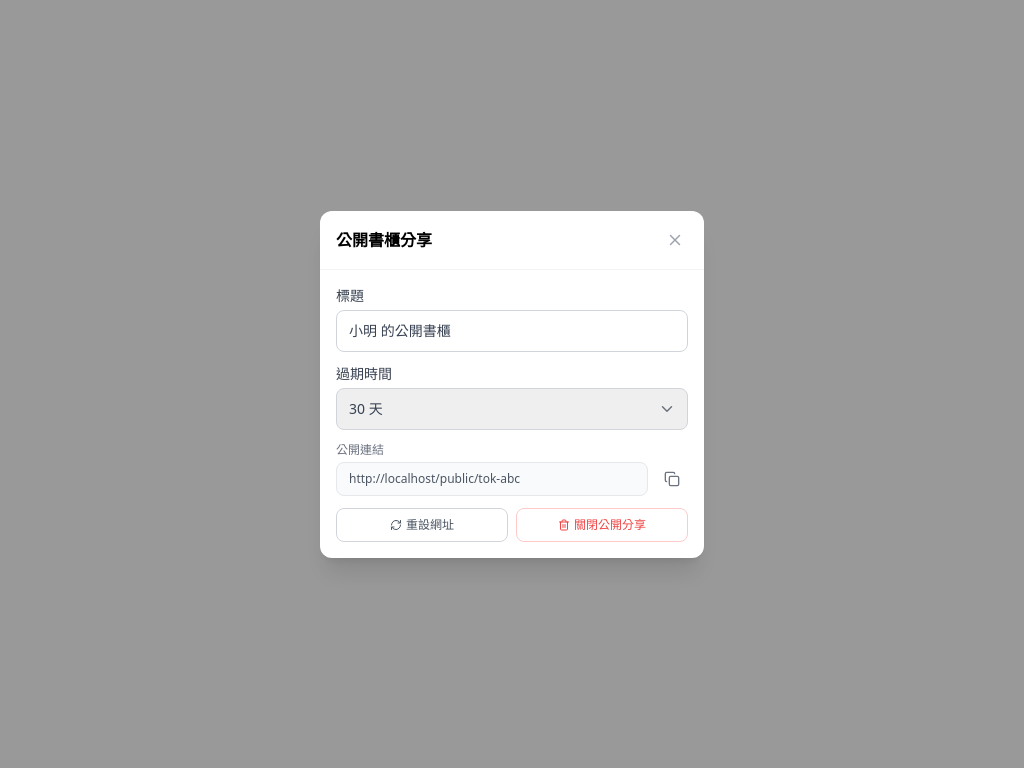
Test: PublicShareDialog · refused writes never advance the UI › revoking the public link › reports a FORBIDDEN refusal in 繁體中文 and keeps the link live
The width and height of the screenshot is (1024, 768).
Click the button "關閉公開分享" at (602, 524), box [516,508,688,542]
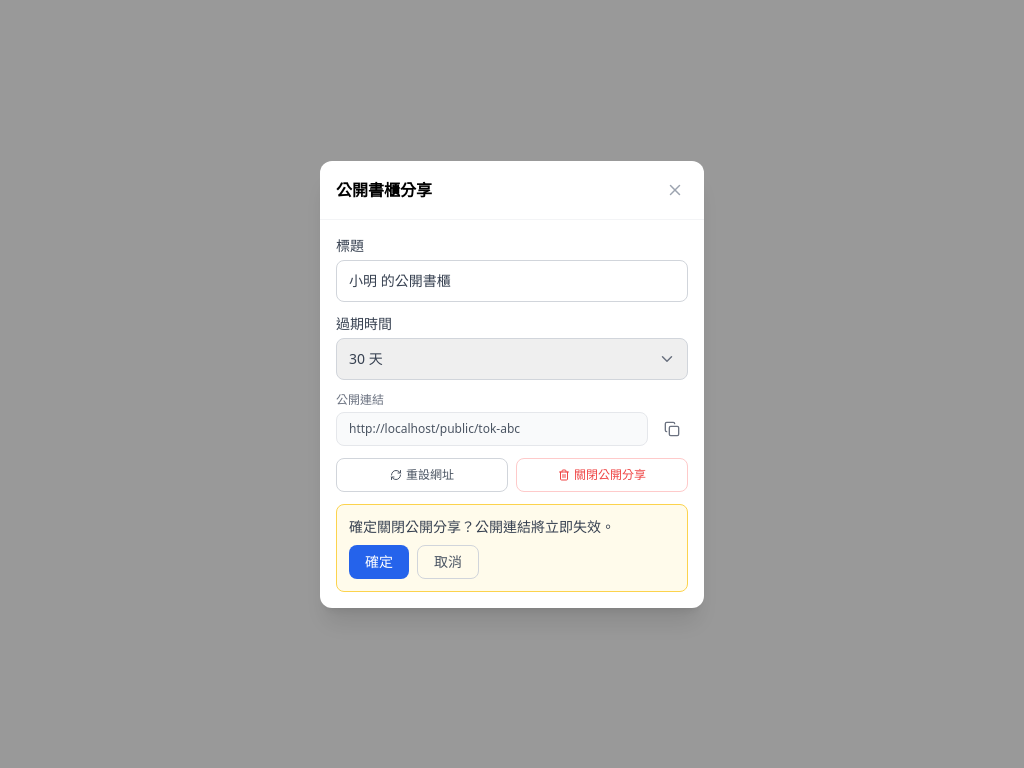
Click the button "確定" at (379, 562), box [349,544,409,578]
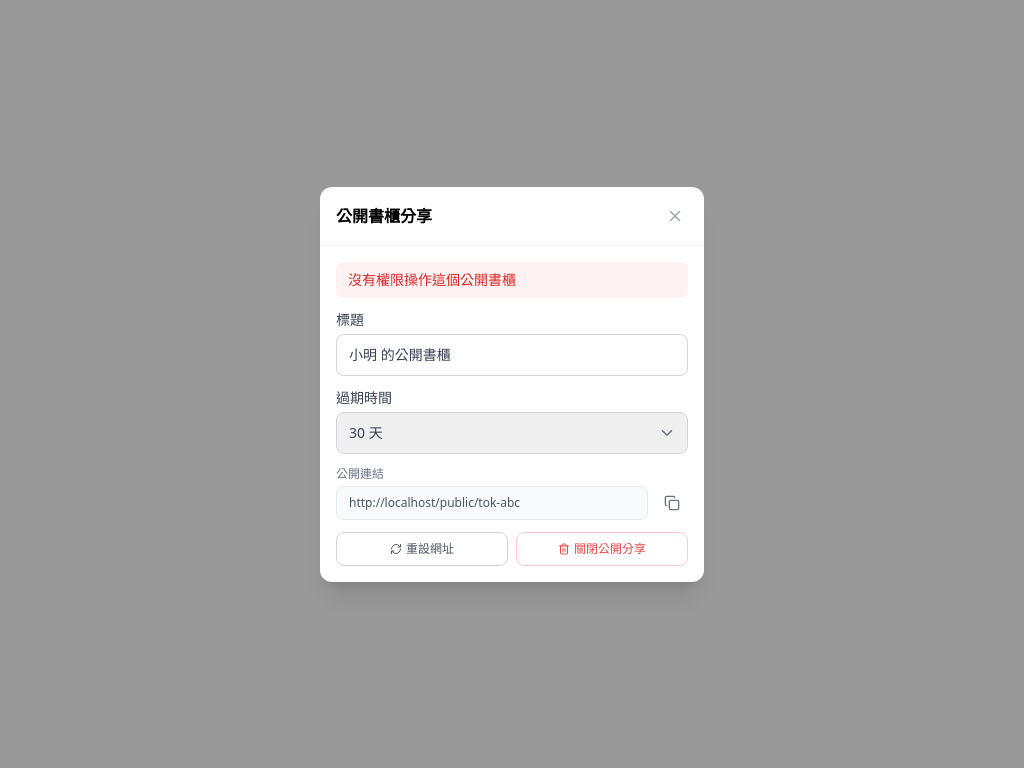
Check: the message does not show "not your shelf", box [336,262,688,298]
Check: the message reads "沒有權限操作這個公開書櫃", box [348,270,516,288]
